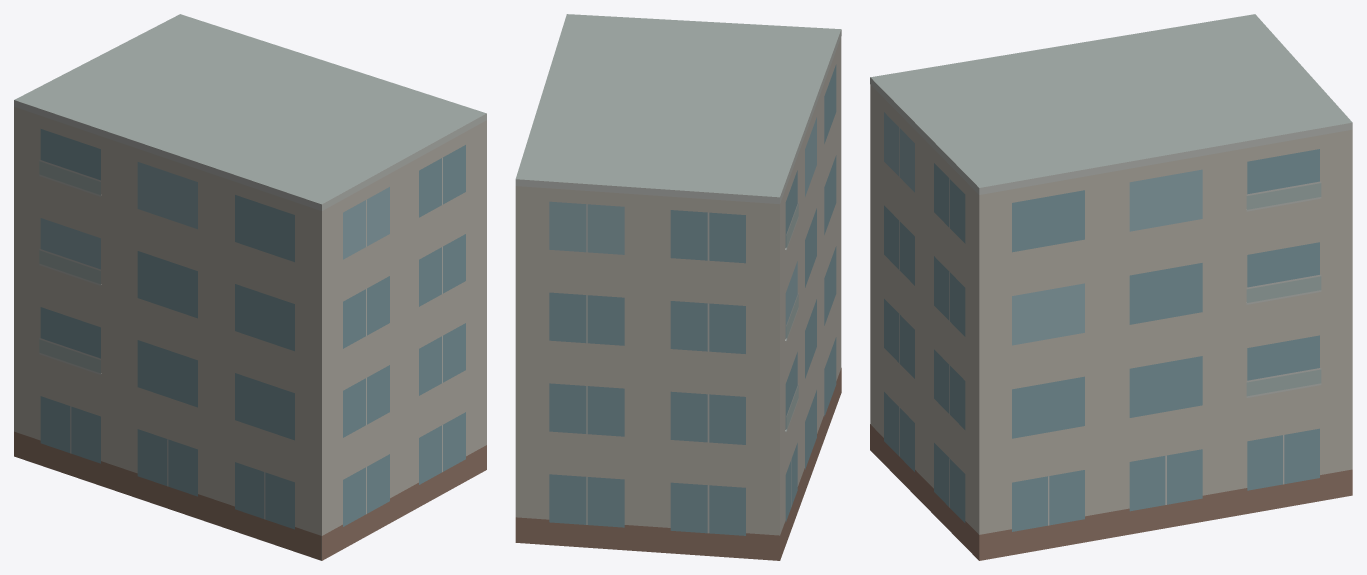
Rendered from survey-upis-32750466.glb.
The picture shows the model from 3 angles, left to right: view 1: azimuth 30°, elevation 25°; view 2: azimuth 150°, elevation 25°; view 3: azimuth 270°, elevation 25°; orthographic projection. The views are drawn at different scales.
Parts seen in each view (by area): view 1: survey-upis-32750466.tmp; view 2: survey-upis-32750466.tmp; view 3: survey-upis-32750466.tmp.
Boxes of the visible parts, left/top/right/bottom form: survey-upis-32750466.tmp: left=14, top=14, right=486, bottom=560; survey-upis-32750466.tmp: left=515, top=14, right=841, bottom=560; survey-upis-32750466.tmp: left=870, top=14, right=1352, bottom=560.
Bounding box in the file's own units: 12.92 × 12.9 × 15.14.
